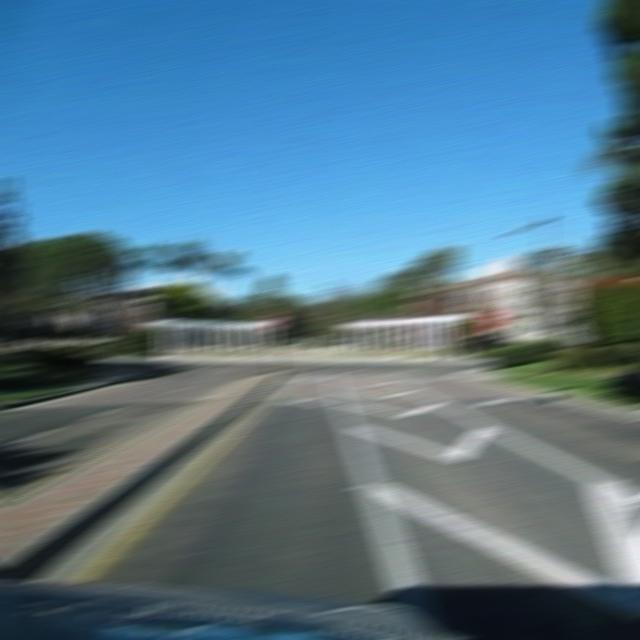stop: (480, 310, 504, 329), (262, 311, 284, 328)
